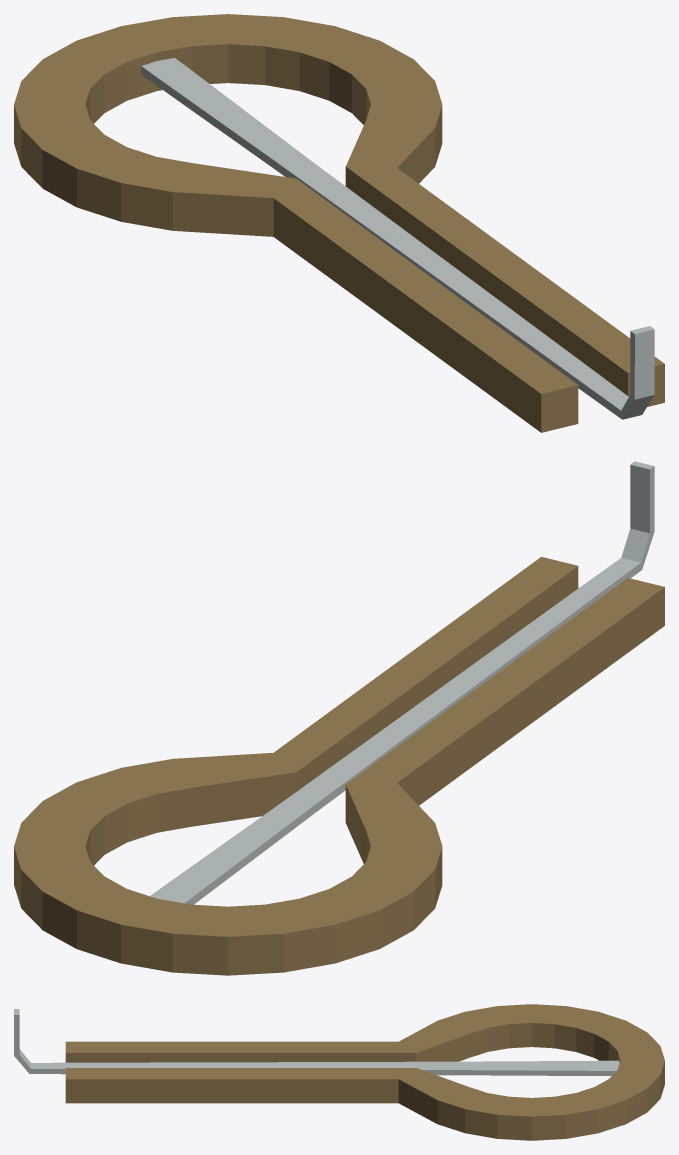
3 renders of one model, top to bottom at view 1: azimuth 30°, elevation 25°; view 2: azimuth 150°, elevation 25°; view 3: azimuth 270°, elevation 25°, orthographic. The views are drawn at different scales.
Parts seen in each view (by area): view 1: WholeGroundFootContinuousOpenBowAndJaws, WholeContinuousRootedReedAndRaisedTip; view 2: WholeGroundFootContinuousOpenBowAndJaws, WholeContinuousRootedReedAndRaisedTip; view 3: WholeGroundFootContinuousOpenBowAndJaws, WholeContinuousRootedReedAndRaisedTip.
Boxes of the visible parts, x1=… form: WholeGroundFootContinuousOpenBowAndJaws: x1=14, y1=14, x2=664, y2=432; WholeContinuousRootedReedAndRaisedTip: x1=141, y1=58, x2=654, y2=419; WholeGroundFootContinuousOpenBowAndJaws: x1=14, y1=557, x2=664, y2=975; WholeContinuousRootedReedAndRaisedTip: x1=150, y1=461, x2=654, y2=904; WholeGroundFootContinuousOpenBowAndJaws: x1=65, y1=1004, x2=664, y2=1140; WholeContinuousRootedReedAndRaisedTip: x1=14, y1=1009, x2=619, y2=1075.
Bounding box in the file's own units: 0.06 × 0.018 × 0.1467.
